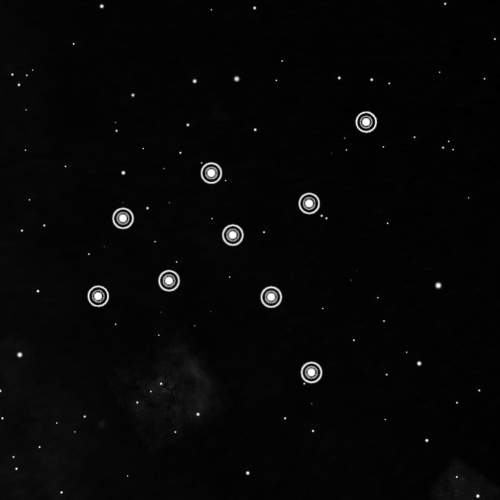cygnus: (81, 104, 381, 391)
